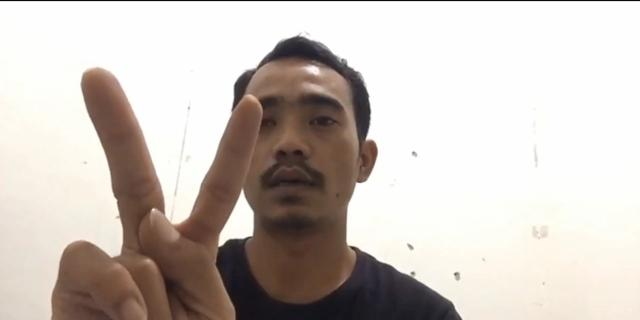K: (42, 66, 270, 320)
